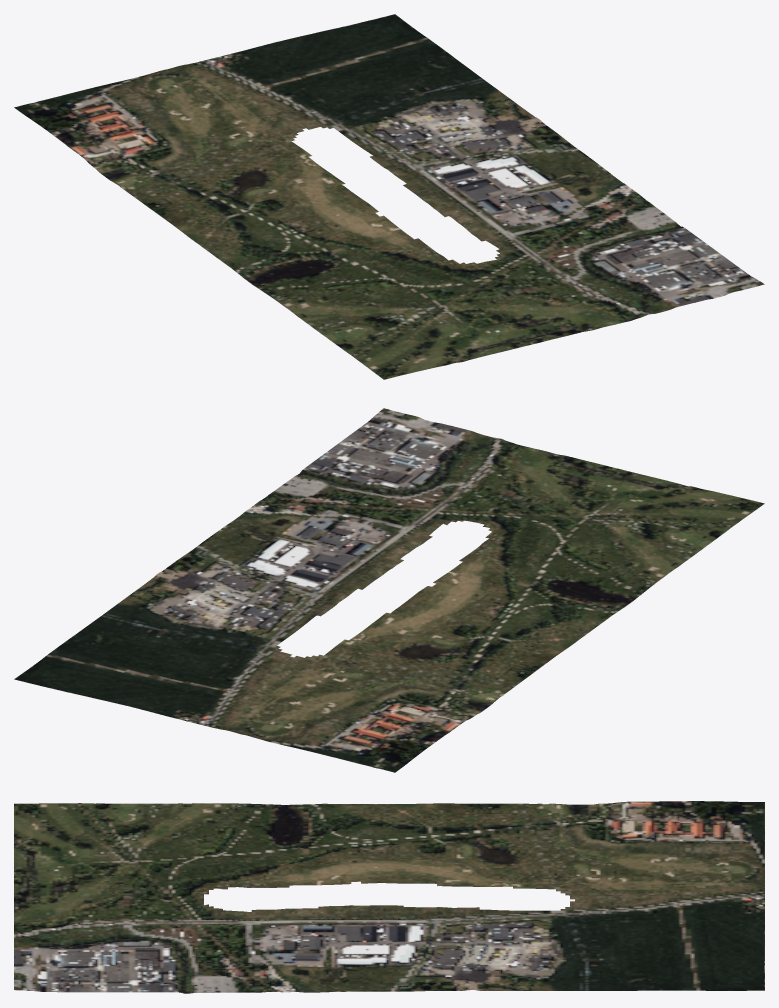
The model's file is black_6_wide.glb.
3 views of the same model, one above another, from view 1: azimuth 30°, elevation 25°; view 2: azimuth 150°, elevation 25°; view 3: azimuth 270°, elevation 25° (orthographic).
Parts seen in each view (by area): view 1: wide; view 2: wide; view 3: wide.
Part boxes in pixels (x1=…): wide: x1=14, y1=14, x2=764, y2=379; wide: x1=14, y1=408, x2=764, y2=772; wide: x1=14, y1=801, x2=764, y2=993.
Bounding box in the file's own units: 752 × 11.14 × 1264.
Materials: 1 (1 with a texture image).
